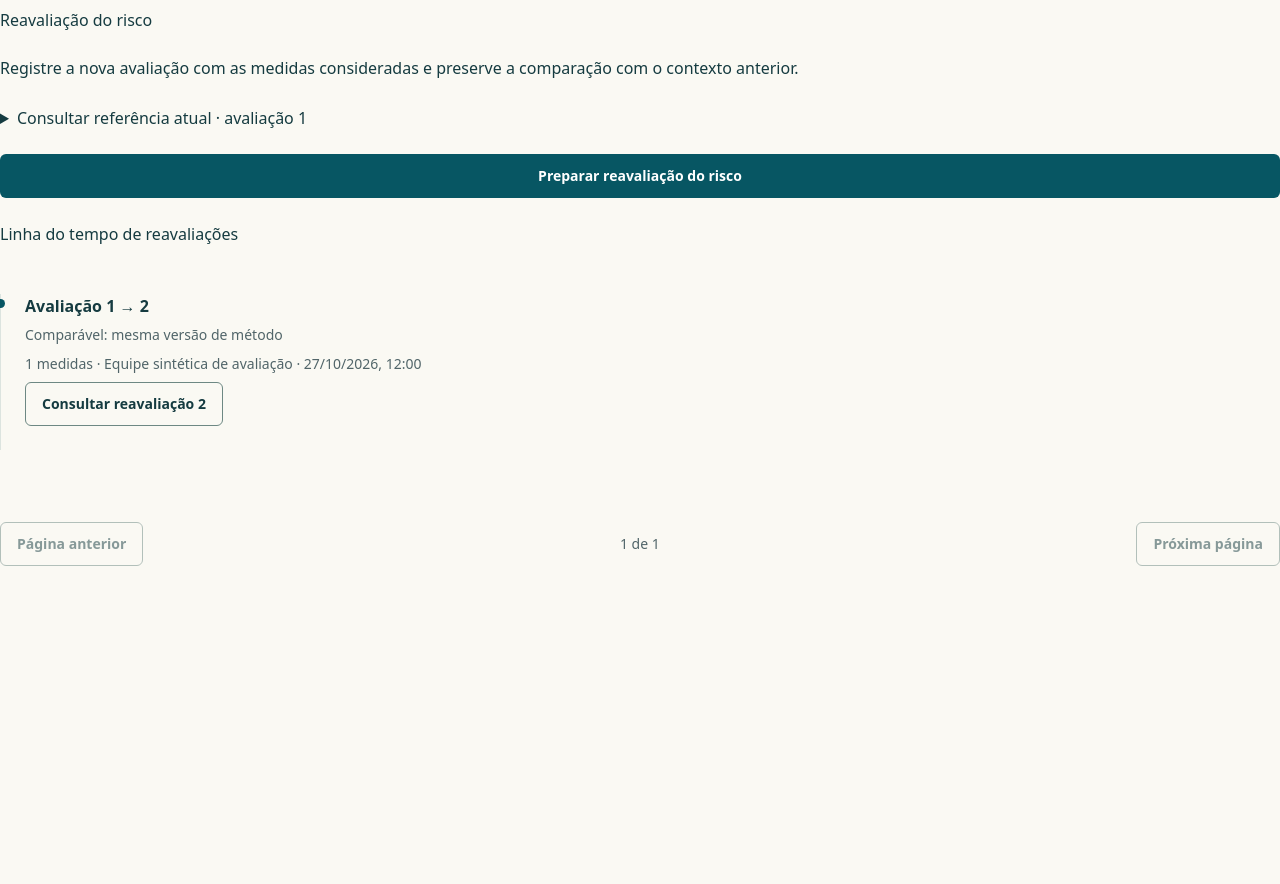
Test: compares the preserved before/after evaluations and considers their measures
Click the button "Consultar reavaliação 2".
click(124, 404)  # box [25,382,223,426]
(page scrolled)
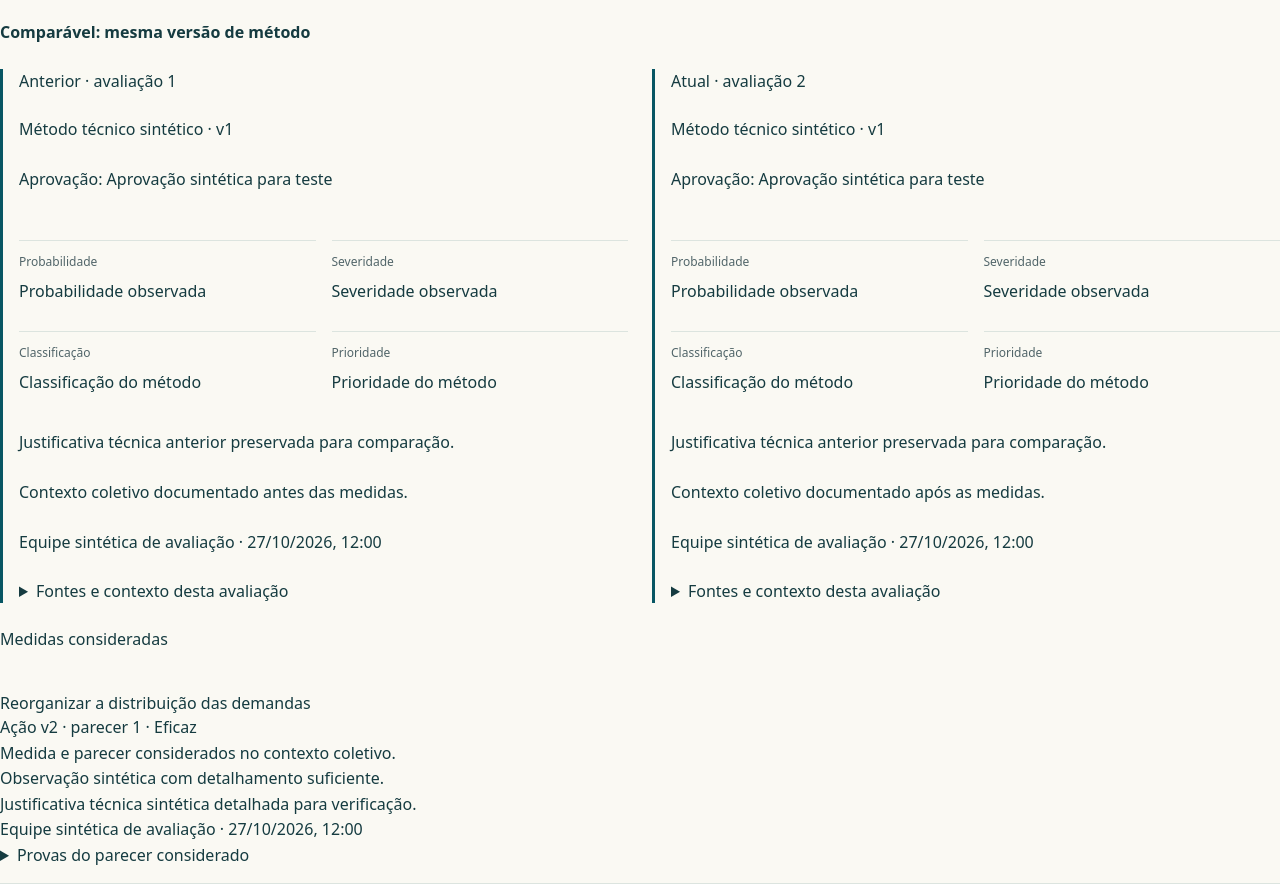
expect the heading "Anterior · avaliação 1" is shown: met, box [19,70,176,92]
expect the heading "Atual · avaliação 2" is shown: met, box [671,70,806,92]
expect the text "Medida e parecer considerados no contexto coletivo." is shown: met, box [0,742,396,764]
